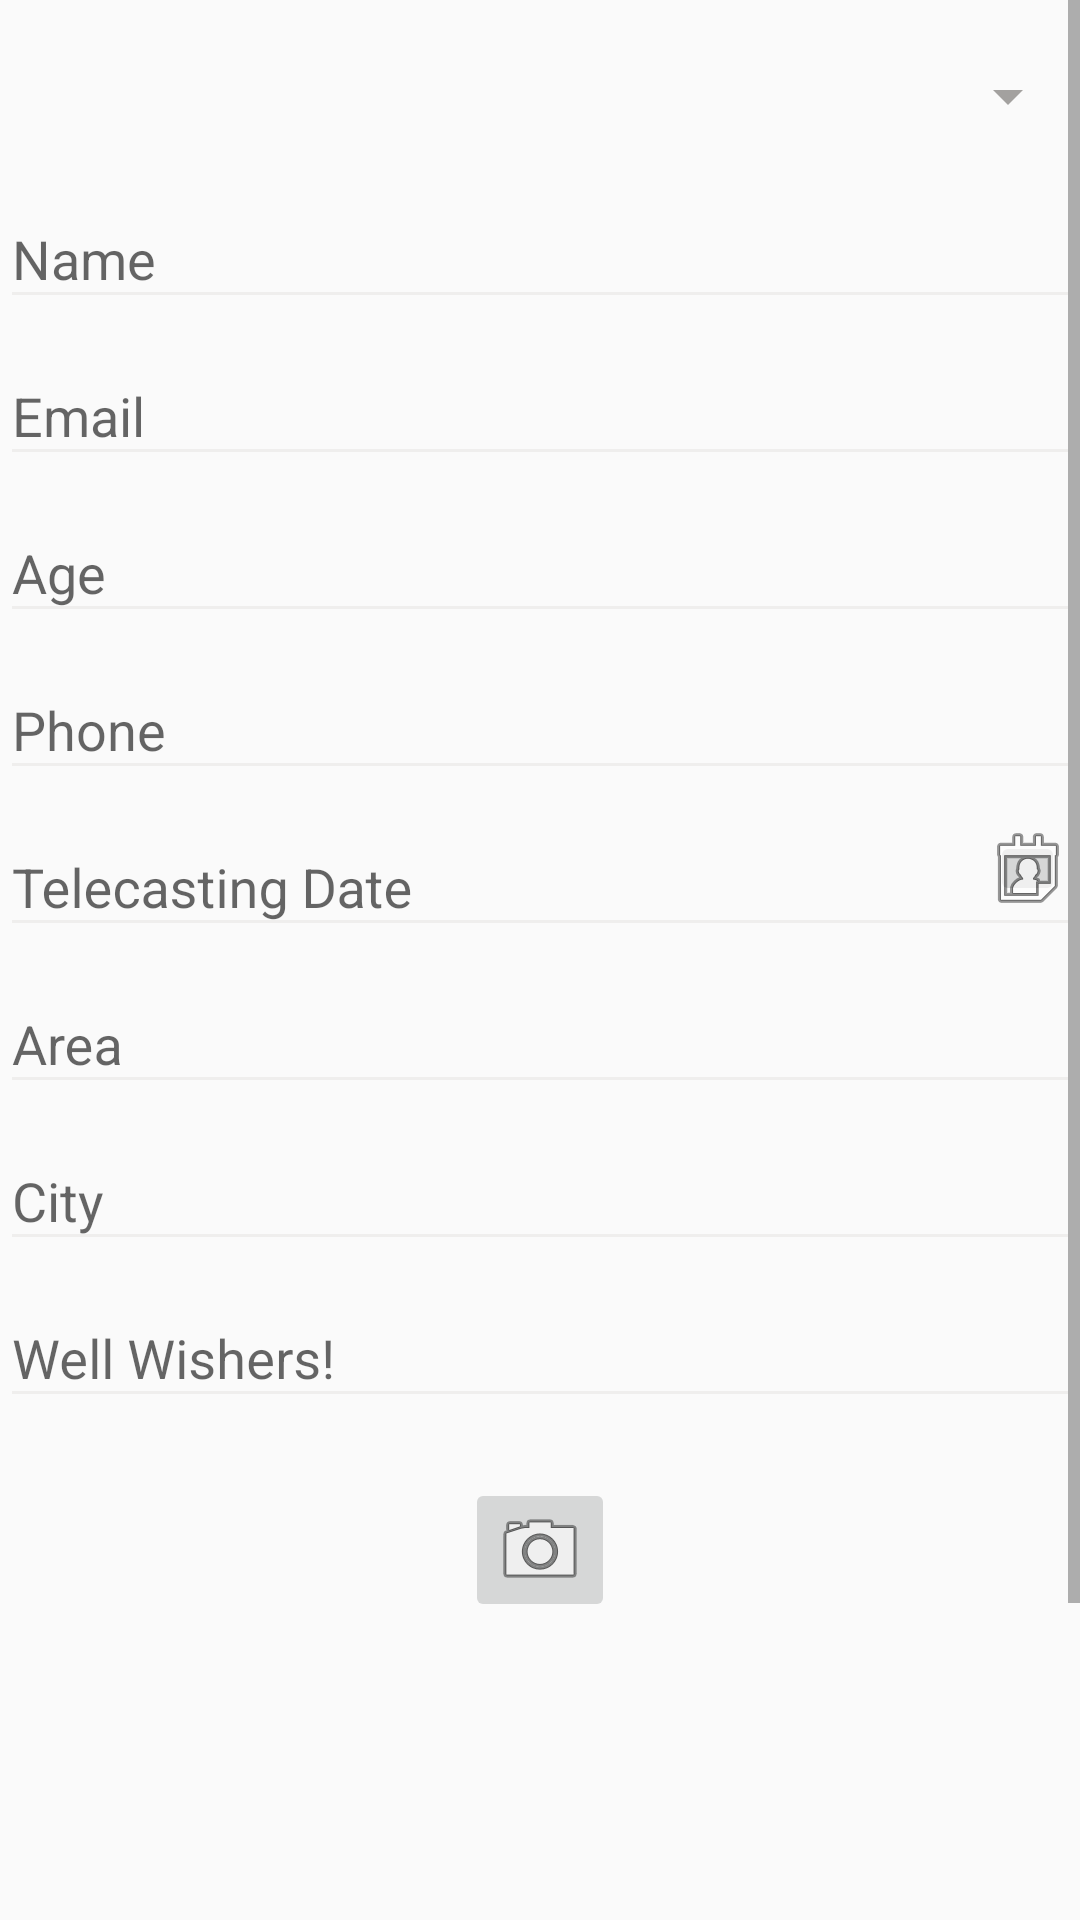

Screen size 1080 x 1920. Icon name, then its center in pixels as [x,y]:
calendar: [1028,868]
camera: [540,1550]
